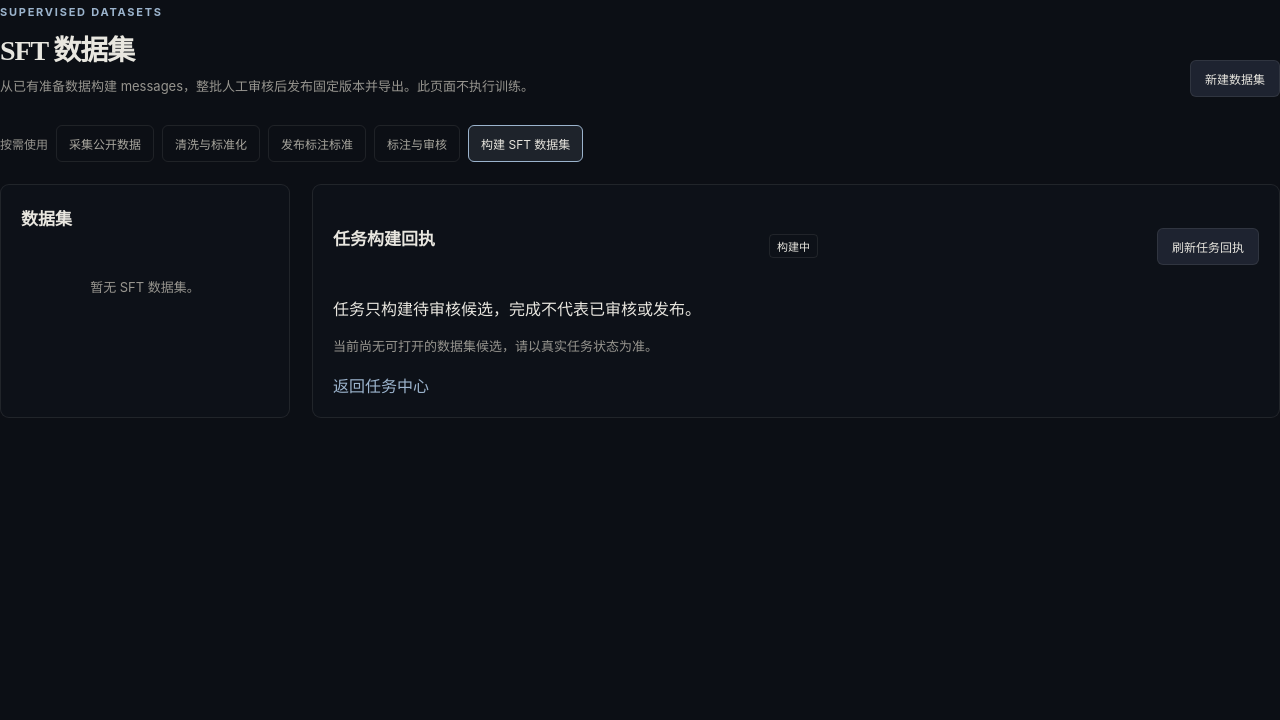
Test case: projection and durable SFT handoff › restores SFT execution read only without treating a running receipt as a draft
Click the button "刷新任务回执". click: (1208, 246)
box: [1157, 228, 1259, 265]
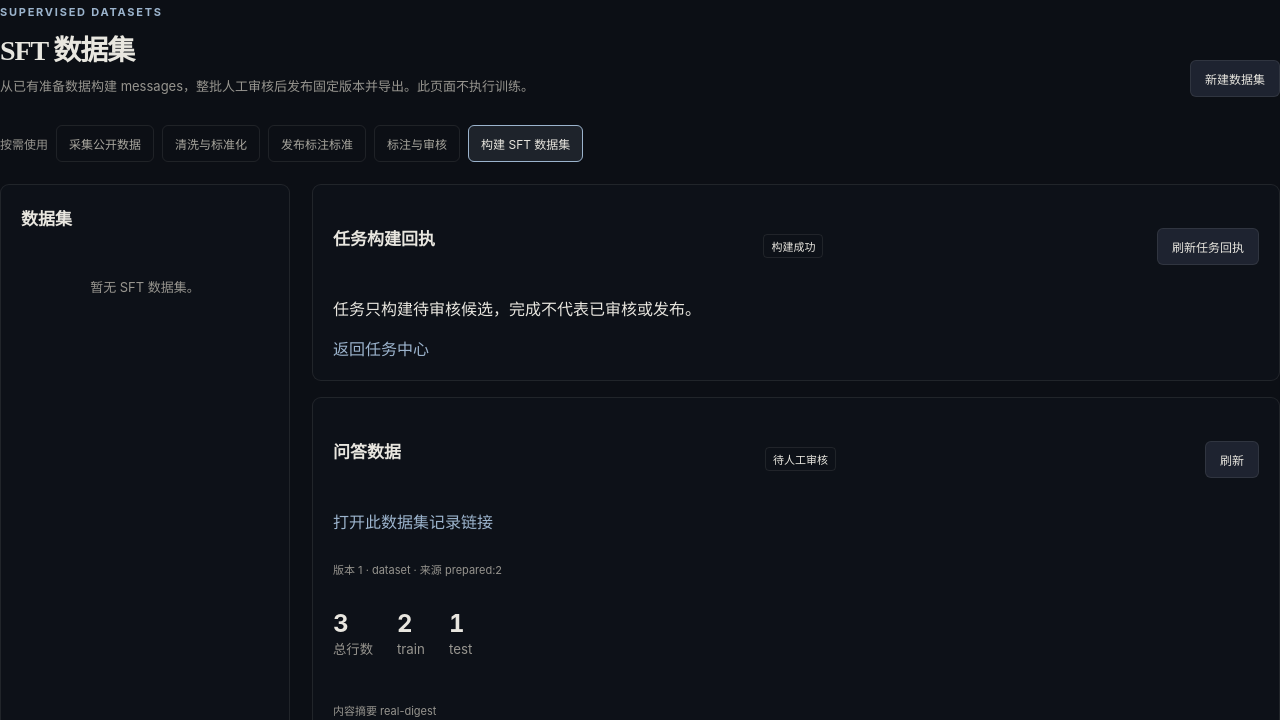
Check: the text "待人工审核" is shown, box [765, 447, 836, 471]
